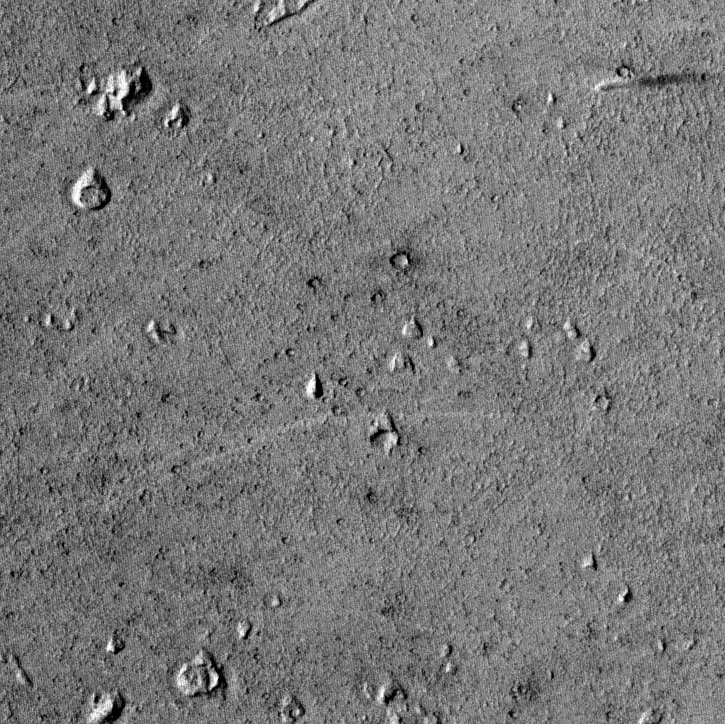dust_devil: (591, 71, 715, 96)
